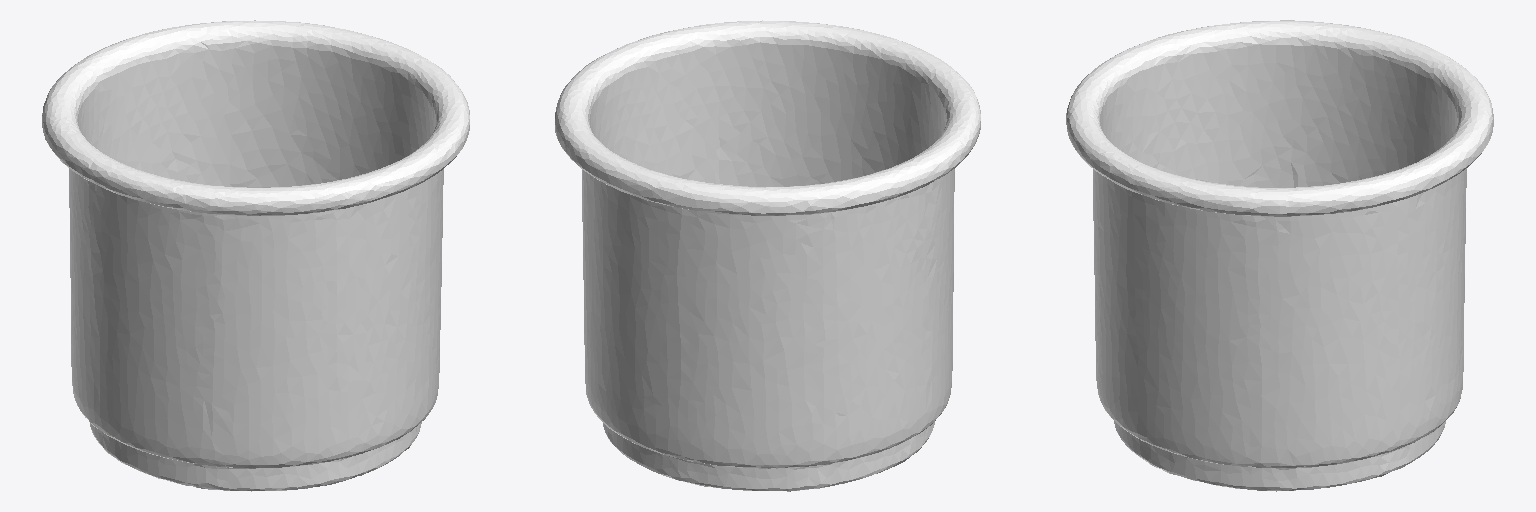
The robot description file, URDF, robot "070-b_colored_wood_blocks":
<robot name="070-b_colored_wood_blocks">
	<link name="_name">
		<visual>
			<origin xyz="0.18821263920805856 0.08818559894969996 -0.12633433800824467" rpy="0 0 0" />
			<geometry>
				<mesh filename="070-b_colored_wood_blocks/google_16k/textured.obj" scale="10 10 10" />
			</geometry>
			<material name="texture">
				<color rgba="1.0 1.0 1.0 1.0" />
			</material>
		</visual>
		<collision>
			<geometry>
				<mesh filename="070-b_colored_wood_blocks/google_16k/textured_vhacd.obj" scale="10 10 10" />
			</geometry>
		<origin xyz="0.18821263920805856 0.08818559894969996 -0.12633433800824467" rpy="0 0 0" /></collision>
		<inertial>
			<mass value="1.0" />
			<inertia ixx="1.0" ixy="0.0" ixz="0.0" iyy="1.0" iyz="0.0" izz="1.0" />
		</inertial>
	</link>
</robot>

--- Render facts (derived) ---
Views: 3 orthographic renders of the robot side by side, from view 1: azimuth 30°, elevation 25°; view 2: azimuth 150°, elevation 25°; view 3: azimuth 270°, elevation 25°.
Model 070-b_colored_wood_blocks with 1 links and 0 joints (none), rooted at _name, posed all joints at 0.
Visible links, largest first — view 1: _name; view 2: _name; view 3: _name.
Boxes of the visible links, left/top/right/bottom form: _name: left=42, top=20, right=469, bottom=491; _name: left=555, top=20, right=980, bottom=491; _name: left=1066, top=20, right=1493, bottom=491.
Bounding box of the posed robot: 0.915 × 0.9162 × 0.7506 m (x, y, z).
Meshes: 1 distinct files referenced, 1 mesh visuals loaded (1 OBJ).